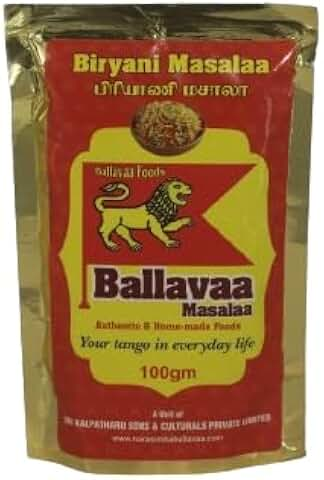Biryani: (6, 5, 321, 473)
